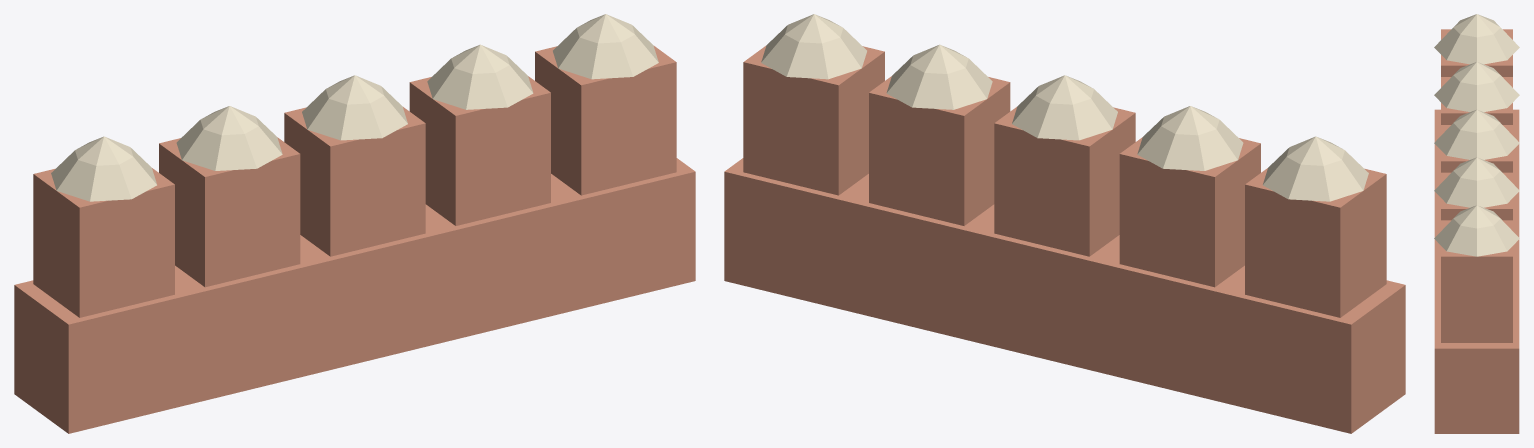
File: kit_kangura.glb
3 views of the same model, side by side, from view 1: azimuth 30°, elevation 25°; view 2: azimuth 150°, elevation 25°; view 3: azimuth 270°, elevation 25° (orthographic). The views are drawn at different scales.
Parts seen in each view (by area): view 1: kit_kangura; view 2: kit_kangura; view 3: kit_kangura.
Part boxes in pixels (x1,y1,x2,y2): kit_kangura: (14, 14, 695, 433); kit_kangura: (724, 14, 1405, 433); kit_kangura: (1434, 14, 1519, 433).
Bounding box in the file's own units: 3 × 1.2 × 0.4559.
